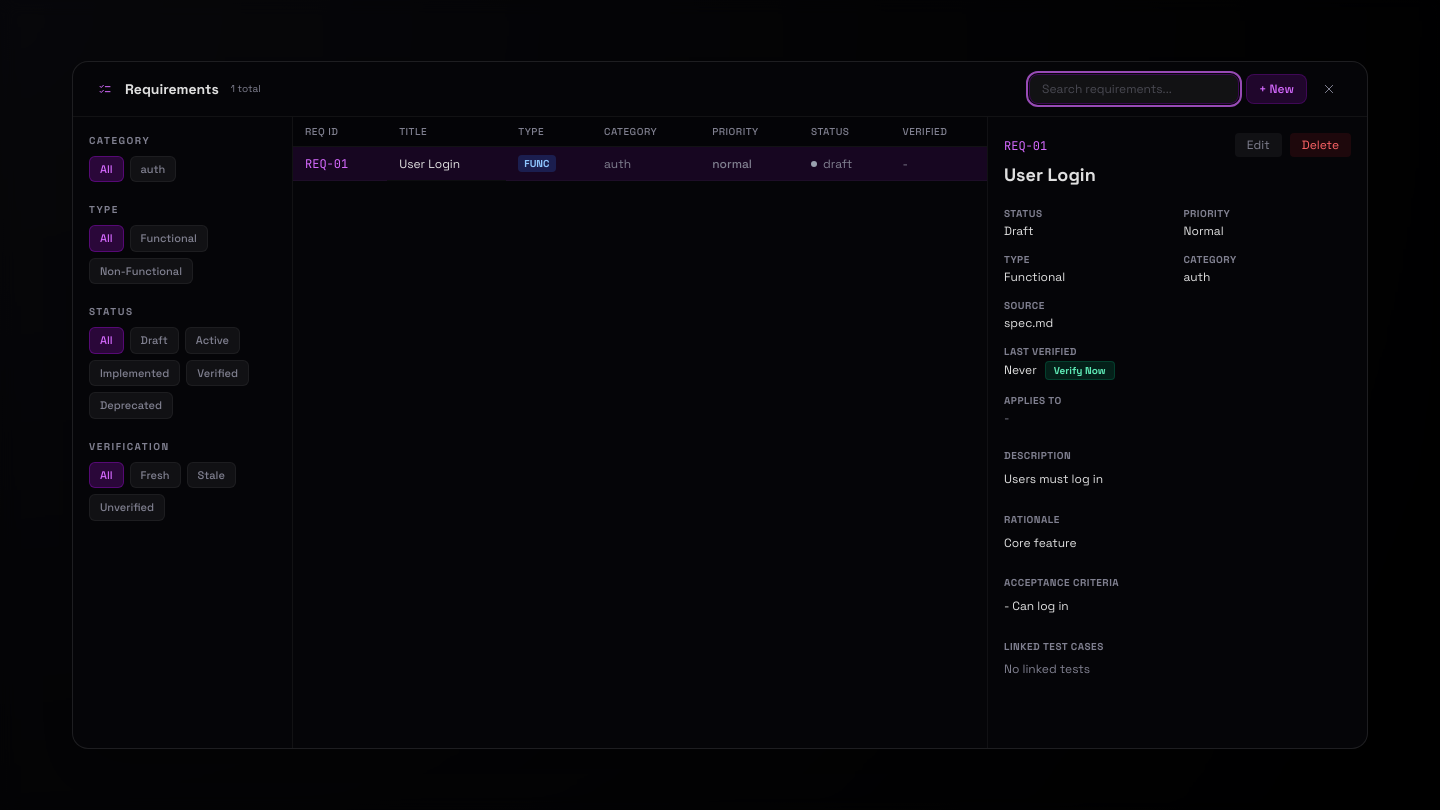
it: RequirementsModal › deleting a requirement › keeps the requirement when the delete is declined
This screenshot has width=1440, height=810.
Click the button with test id "detail-delete-btn" at x=1320, y=145, box [1290,133,1351,157]
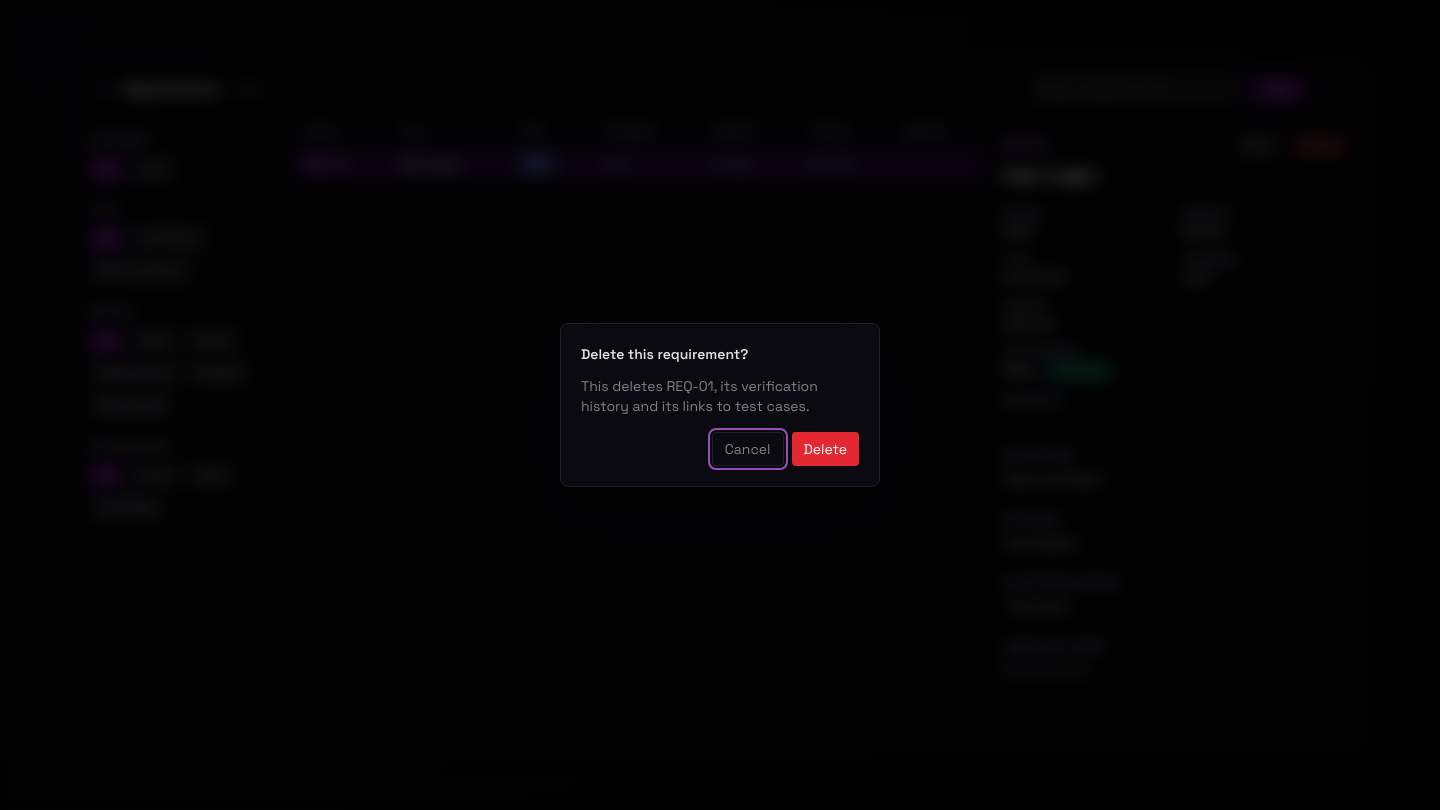
Click the button "Cancel" at x=748, y=449, box [712,432,784,466]
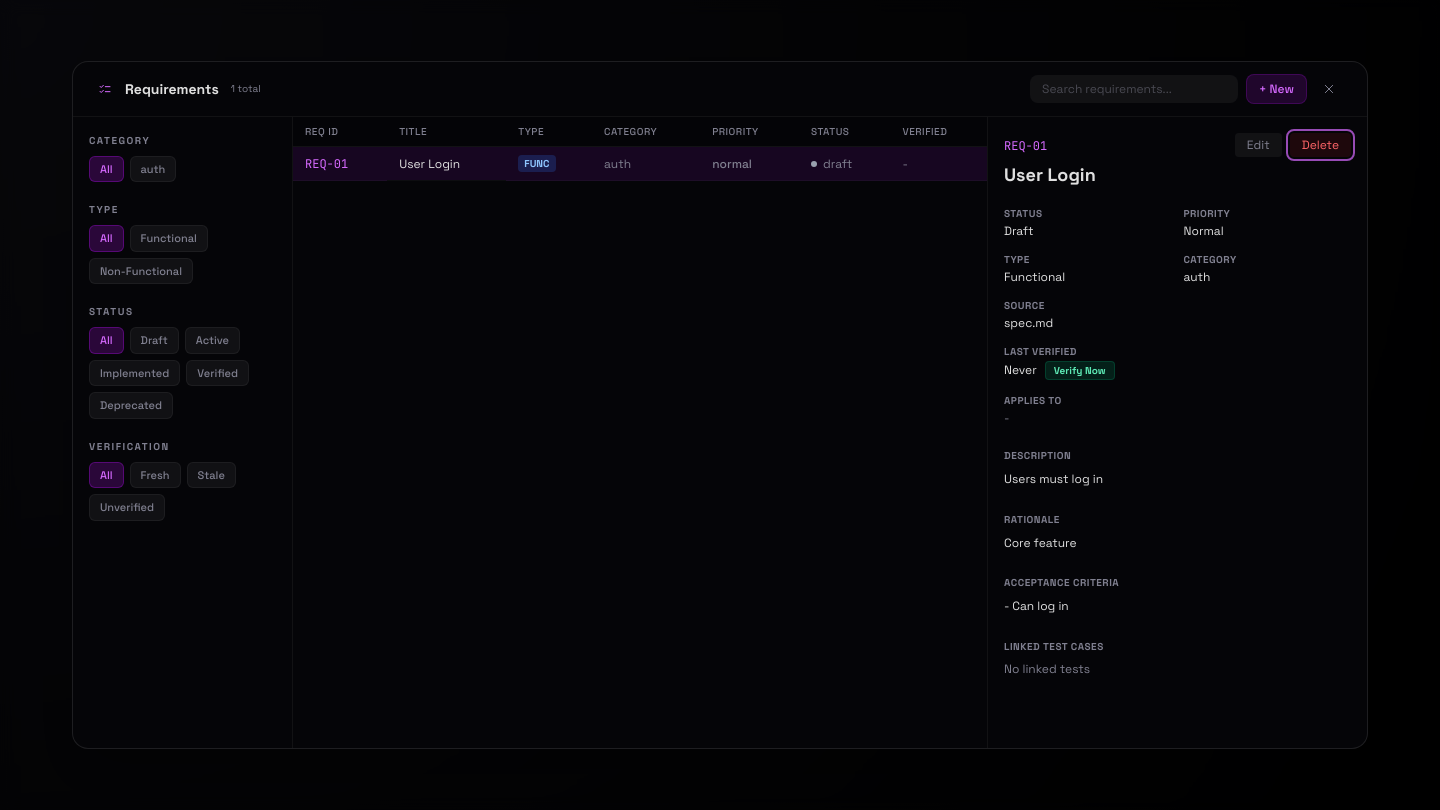
Now the heading "Delete this requirement?" is gone
